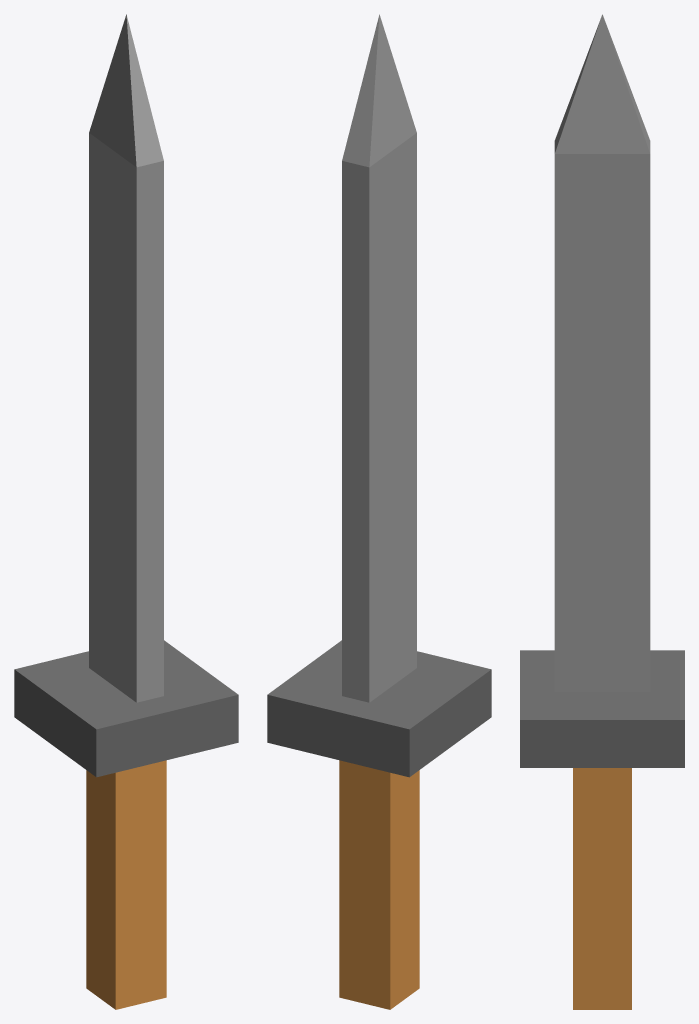
The model's file is SimpleSword.fbx.
The picture shows the model from 3 angles, left to right: view 1: azimuth 30°, elevation 25°; view 2: azimuth 150°, elevation 25°; view 3: azimuth 270°, elevation 25°; orthographic projection.
Visible parts, largest first — view 1: Blade, Handle, Hilt; view 2: Blade, Handle, Hilt; view 3: Blade, Hilt, Handle.
Boxes of the visible parts, x1,y1,x2,y2 form: Blade: (89, 14, 163, 702); Handle: (86, 760, 166, 1009); Hilt: (14, 640, 238, 777); Blade: (342, 14, 416, 702); Handle: (339, 760, 419, 1009); Hilt: (267, 640, 491, 777); Blade: (554, 14, 650, 691); Hilt: (520, 650, 684, 767); Handle: (573, 768, 631, 1009).
Size of the model in its own units: 200 by 1316 by 200.
